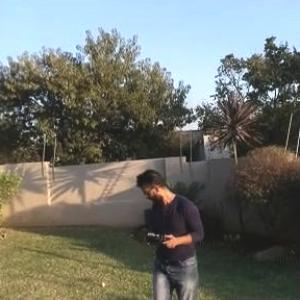follow: (133, 166, 210, 299)
